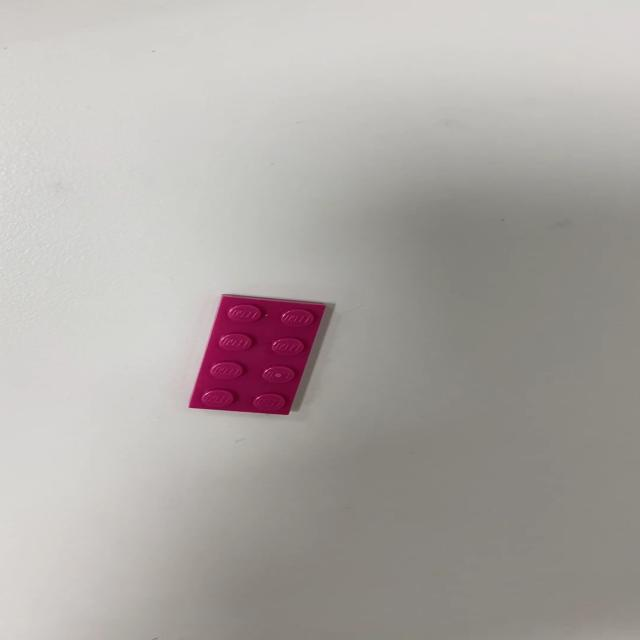C4x2x0: (186, 294, 330, 418)
